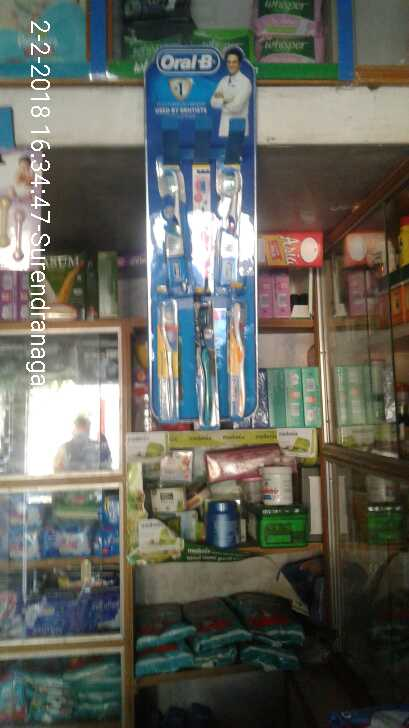oralb: (158, 147, 191, 294), (214, 160, 248, 289), (226, 297, 254, 425), (193, 294, 217, 425), (156, 296, 181, 420)
